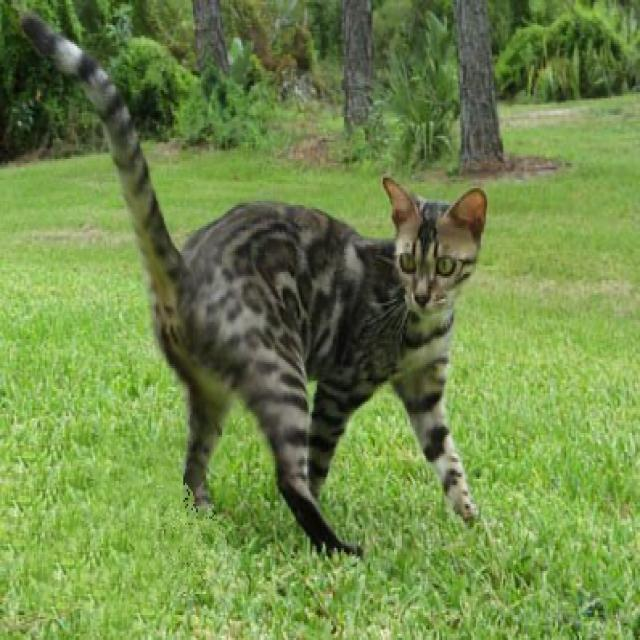cat: (381, 174, 484, 314)
